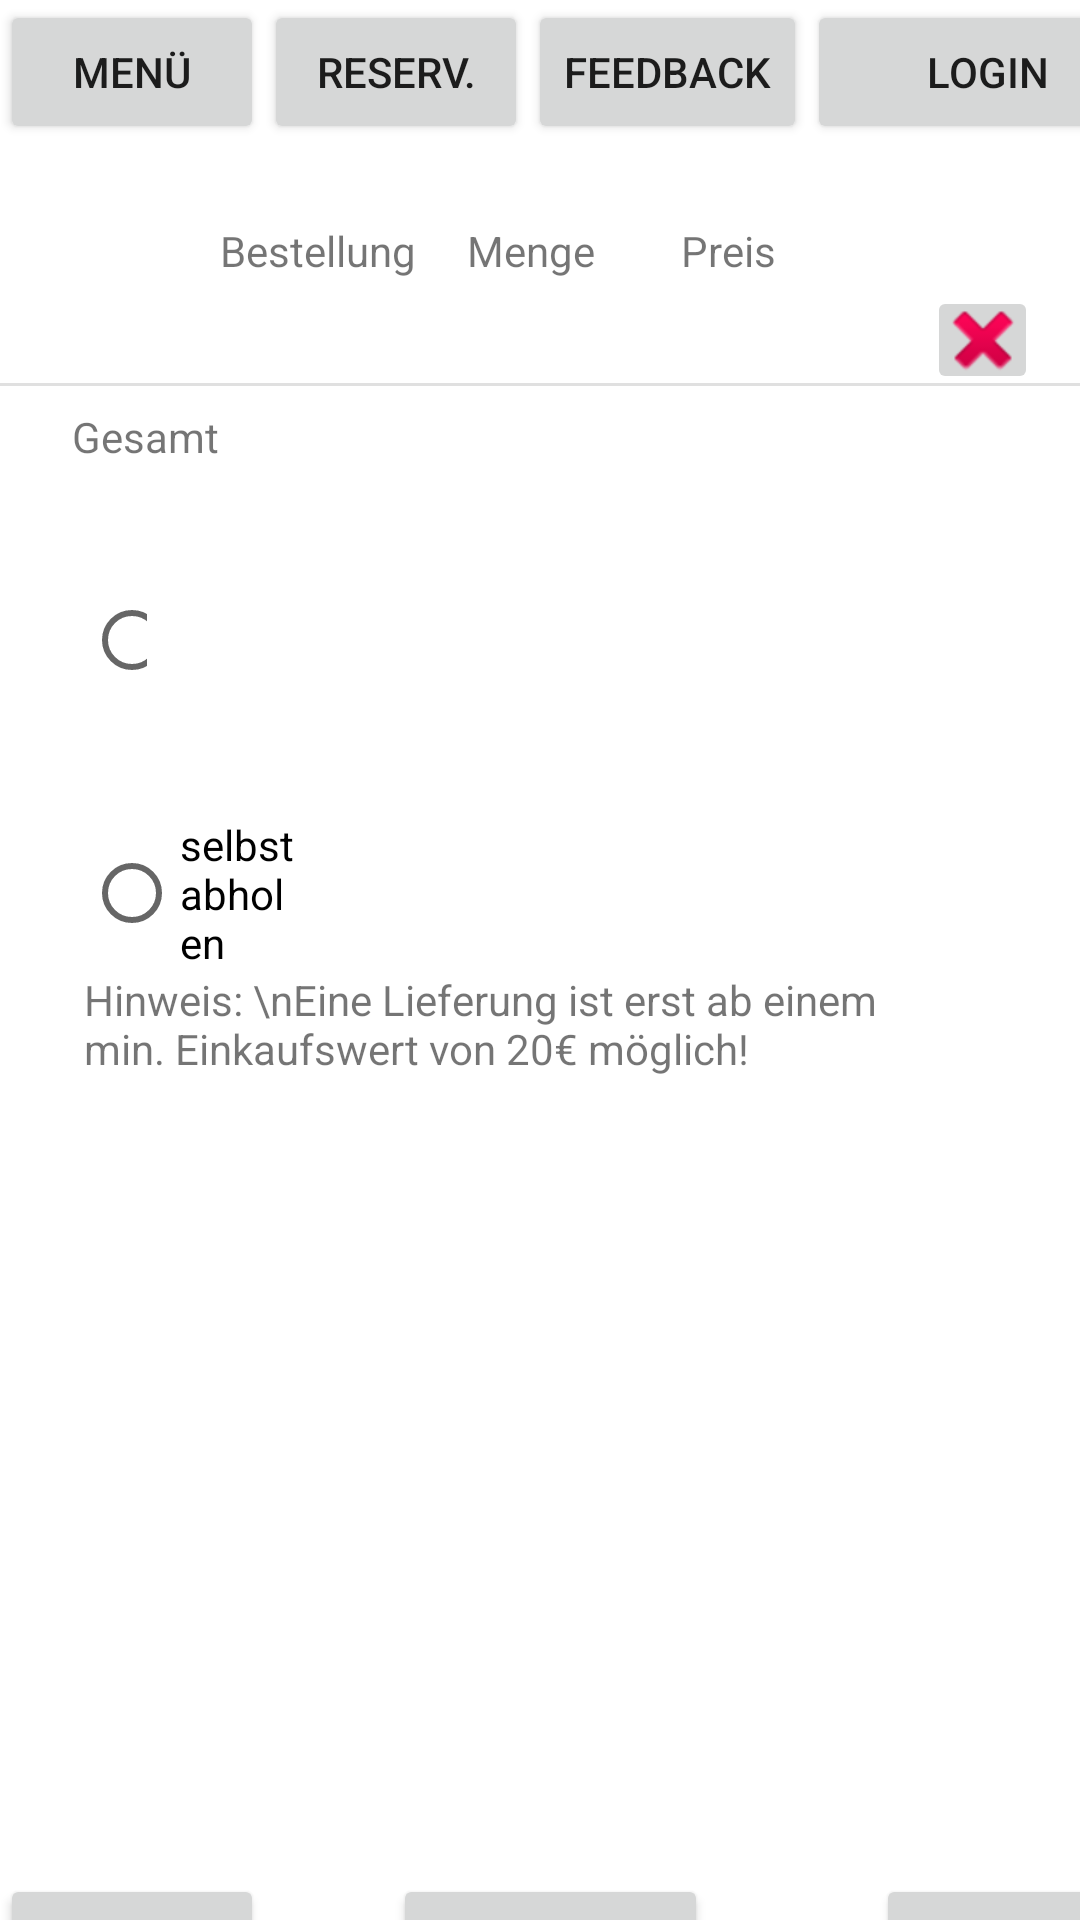

Named icons in this screenshot (1080x1920) and their bounding boxes, detection(x1, y1, x2, y2):
delete: detection(939, 304, 1026, 376)
